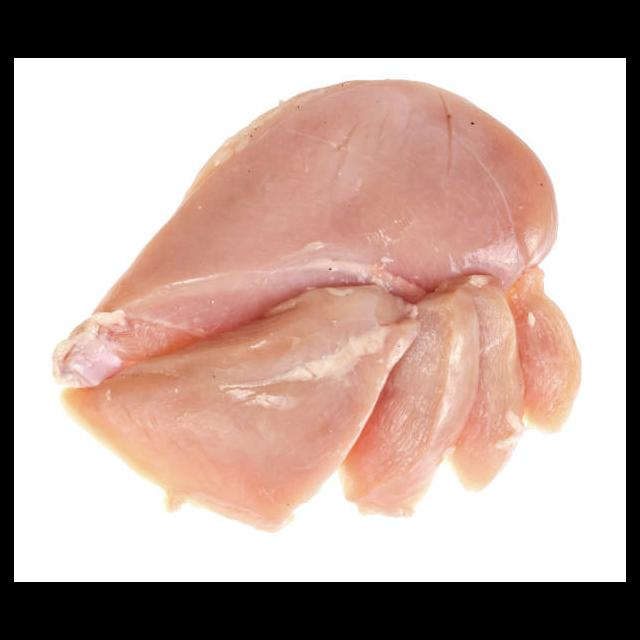chicken: (53, 77, 584, 534)
